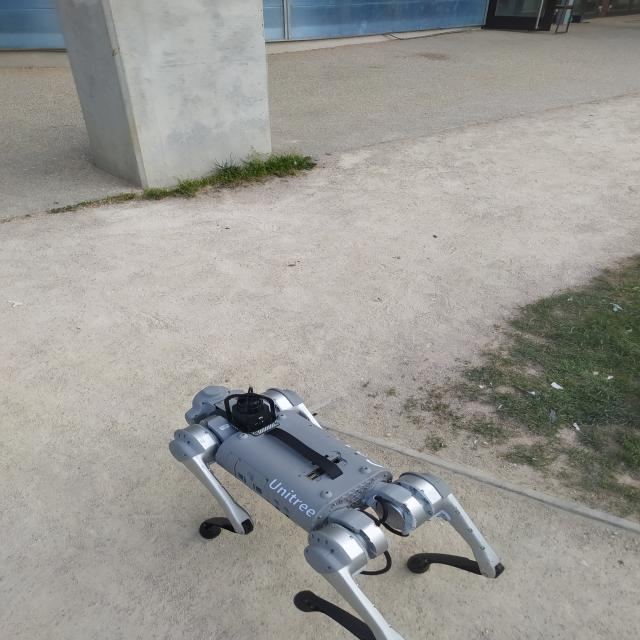unitree-go1-robot: (174, 383, 510, 640)
